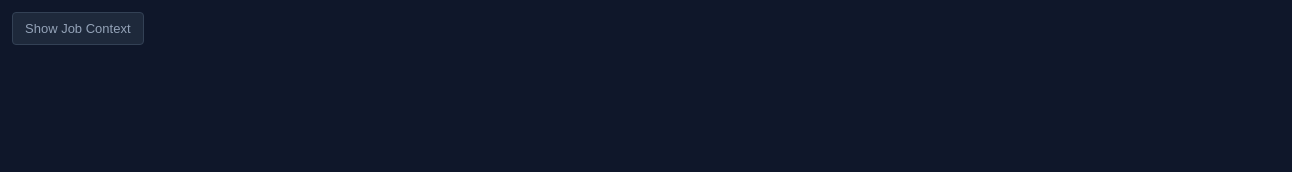
Test: JobContextPanel › shows error state on fetch failure
Click the button "Show Job Context".
click(78, 28)  # box x1=12 y1=12 x2=144 y2=45
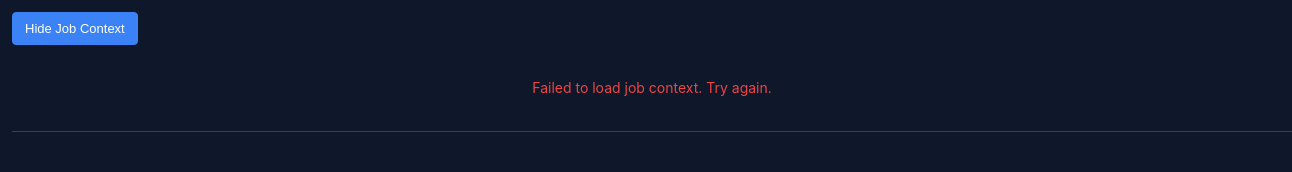
Check: the text "Failed to load job context. Try again." is shown, box x1=532 y1=79 x2=772 y2=96
